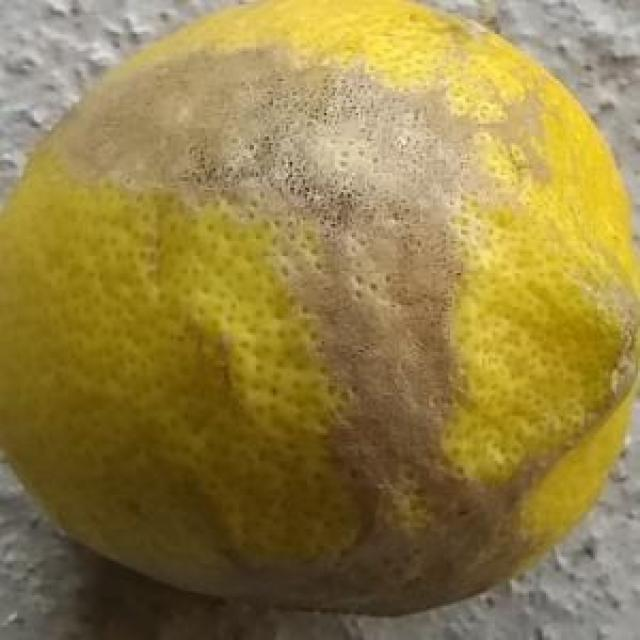lemon: (4, 2, 640, 612)
